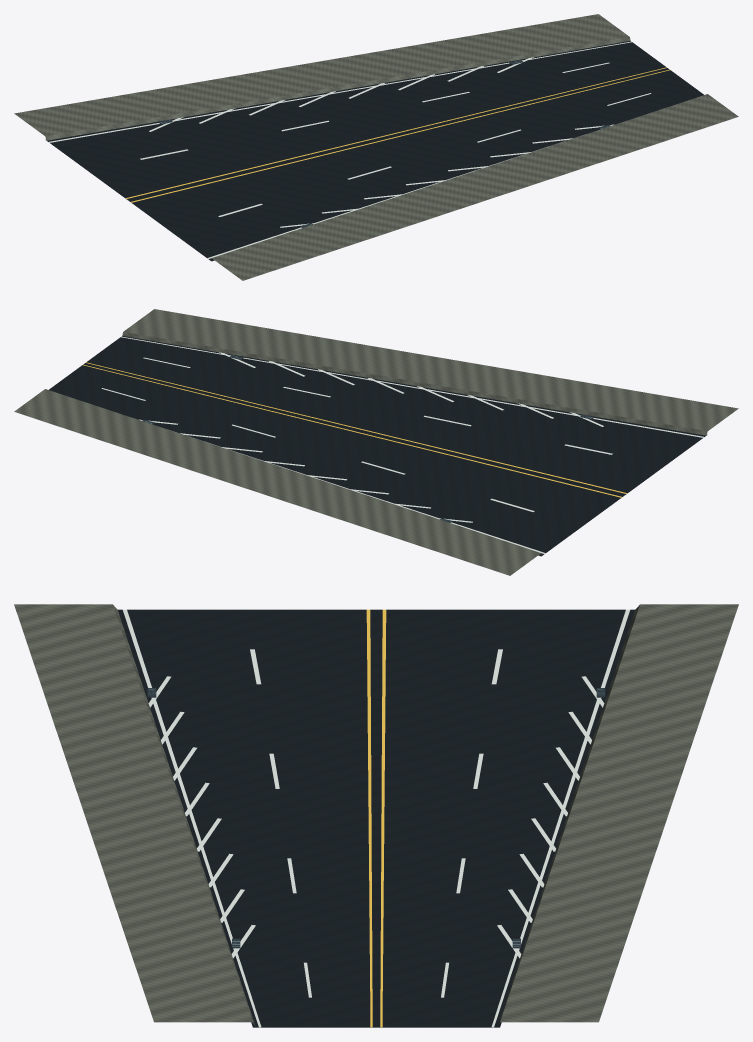
The model's file is road_taper_4to2_24m_LOD0.glb.
The picture shows the model from 3 angles, top to bottom: view 1: azimuth 30°, elevation 25°; view 2: azimuth 150°, elevation 25°; view 3: azimuth 270°, elevation 25°; orthographic projection. The views are drawn at different scales.
Visible parts, largest first — view 1: road_taper_4to2_24m__surface, road_taper_4to2_24m__markings; view 2: road_taper_4to2_24m__surface, road_taper_4to2_24m__markings; view 3: road_taper_4to2_24m__surface, road_taper_4to2_24m__markings.
Part boxes in pixels (x1=…): road_taper_4to2_24m__surface: x1=14, y1=14, x2=738, y2=280; road_taper_4to2_24m__markings: x1=49, y1=41, x2=669, y2=258; road_taper_4to2_24m__surface: x1=14, y1=309, x2=738, y2=575; road_taper_4to2_24m__markings: x1=83, y1=336, x2=703, y2=553; road_taper_4to2_24m__surface: x1=14, y1=604, x2=738, y2=1027; road_taper_4to2_24m__markings: x1=123, y1=609, x2=629, y2=1027.
Size of the model in its own units: 24 by 0.145 by 17.6.
Materials: 7 (3 with a texture image).
